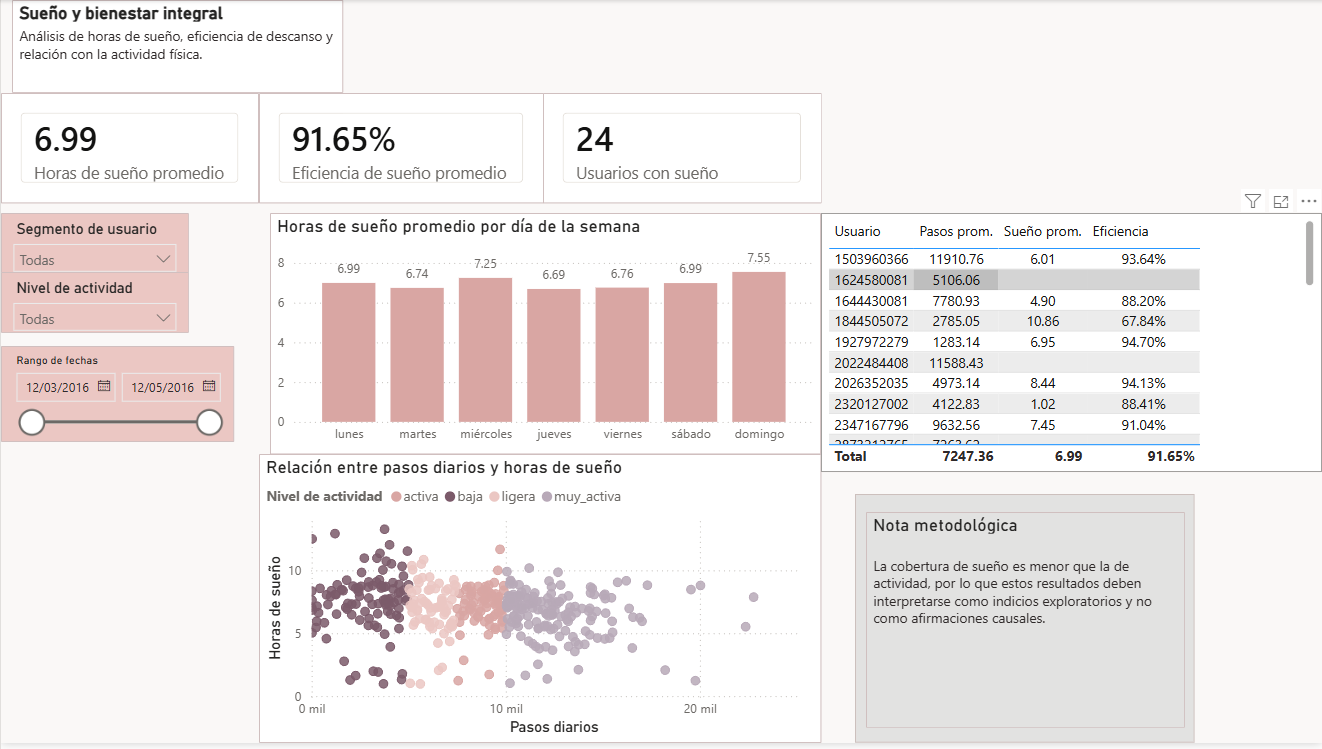

Layout of this report page (visuals, bound fields, positions):
{"tool":"powerbi","page":{"name":"Sueño","canvas":[1280,720],"ordinal":2},"visuals":[{"type":"shape","box":[827.8,478.8,329.1,241],"z":0},{"type":"textbox","title":"Sueño y bienestar integral","box":[10.3,0,321.1,89.6],"z":1000},{"type":"cardVisual","fields":{"Data":["Medidas.Horas de sueño promedio"]},"box":[0,89.6,249.8,106.5],"z":2000},{"type":"cardVisual","fields":{"Data":["Medidas.Eficiencia de sueño promedio"]},"box":[249.8,89.6,275.5,106.5],"z":3000},{"type":"cardVisual","fields":{"Data":["Medidas.Usuarios con sueño"]},"box":[525.4,89.6,269.7,106.5],"z":4000},{"type":"slicer","fields":{"Values":["bellabeat_analysis_dataset.activity_date"]},"box":[0,335.1,225.6,92.6],"z":5000},{"type":"slicer","fields":{"Values":["bellabeat_analysis_dataset.activity_level"]},"box":[0,263.7,181.9,58.5],"z":6000},{"type":"slicer","fields":{"Values":["user_segments.user_segment"]},"box":[0,206,181.9,57.7],"z":7000},{"type":"clusteredColumnChart","title":"Horas de sueño promedio por día de la semana","fields":{"Category":["bellabeat_analysis_dataset.day_of_week"],"Y":["Medidas.Horas de sueño promedio"]},"box":[261,206.1,534.4,234.4],"z":8000},{"type":"scatterChart","title":"Relación entre pasos diarios y horas de sueño","fields":{"Category":["bellabeat_analysis_dataset.Registro actividad"],"Series":["bellabeat_analysis_dataset.activity_level"],"X":["Avg(bellabeat_analysis_dataset.total_steps)"],"Y":["Avg(bellabeat_analysis_dataset.sleep_hours_clean)"]},"box":[249.8,440.1,545.2,280],"z":9000},{"type":"tableEx","fields":{"Values":["bellabeat_analysis_dataset.user_id","Avg(bellabeat_analysis_dataset.total_steps)","Avg(bellabeat_analysis_dataset.sleep_hours_clean)","Medidas.Eficiencia de sueño promedio"]},"box":[794.6,206.1,485.4,251],"z":10000},{"type":"textbox","title":"Nota metodológica","box":[837.8,496.2,309.2,209.5],"z":11000}]}

Visuals, with their boxes in screenshot pixels (x1, y1, x2, y2), scaled from the page's 1280x720 canvas onto the 1322x749 screenshot:
shape: detection(855, 498, 1195, 748)
"Sueño y bienestar integral" textbox: detection(11, 0, 342, 93)
cardVisual - Medidas.Horas de sueño promedio: detection(0, 93, 258, 204)
cardVisual - Medidas.Eficiencia de sueño promedio: detection(258, 93, 543, 204)
cardVisual - Medidas.Usuarios con sueño: detection(543, 93, 821, 204)
slicer - bellabeat_analysis_dataset.activity_date: detection(0, 349, 233, 445)
slicer - bellabeat_analysis_dataset.activity_level: detection(0, 274, 188, 335)
slicer - user_segments.user_segment: detection(0, 214, 188, 274)
"Horas de sueño promedio por día de la semana" clusteredColumnChart: detection(270, 214, 821, 458)
"Relación entre pasos diarios y horas de sueño" scatterChart: detection(258, 458, 821, 748)
tableEx - bellabeat_analysis_dataset.user_id x Avg(bellabeat_analysis_dataset.total_steps): detection(821, 214, 1321, 476)
"Nota metodológica" textbox: detection(865, 516, 1185, 734)
